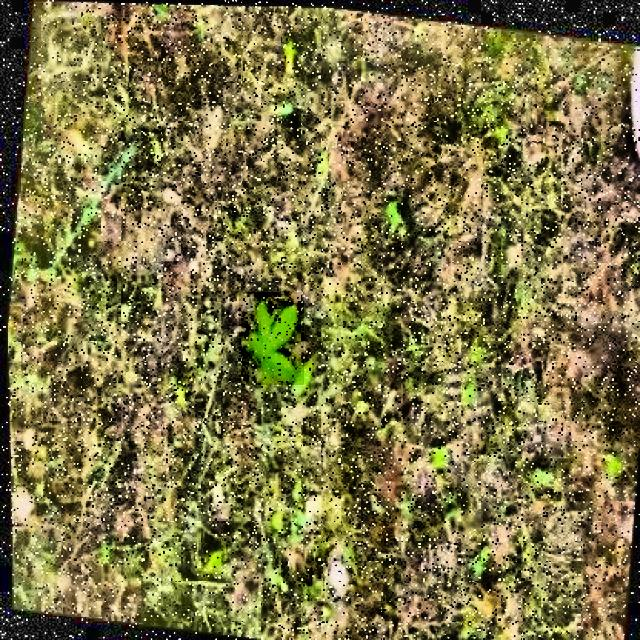Weeds: (239, 292, 304, 385)
